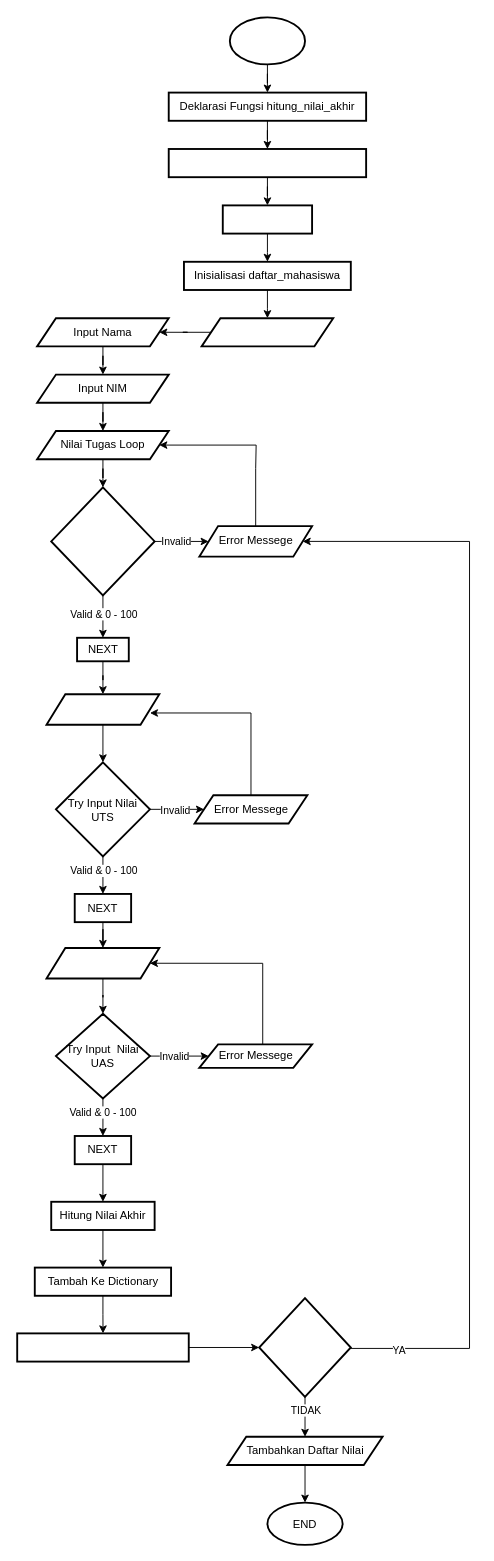
This 494x1561 diagram has some shape labels left out. Each missing label, with the box of its shape:
Append ke daftar_mahasiswa: (16, 1332, 189, 1362)
Deklarasi Fungsi tampilkan_daftar: (167, 148, 367, 178)
Input Data Loop: (200, 317, 334, 347)
Main Function: (221, 204, 313, 234)
Nilai UAS Loop: (45, 947, 160, 979)
Nilai UTS Loop: (45, 693, 160, 725)
START: (228, 16, 306, 65)
Tambah Data Lagi: (258, 1297, 351, 1397)
Try Input Nilai Tugas: (50, 486, 155, 596)
